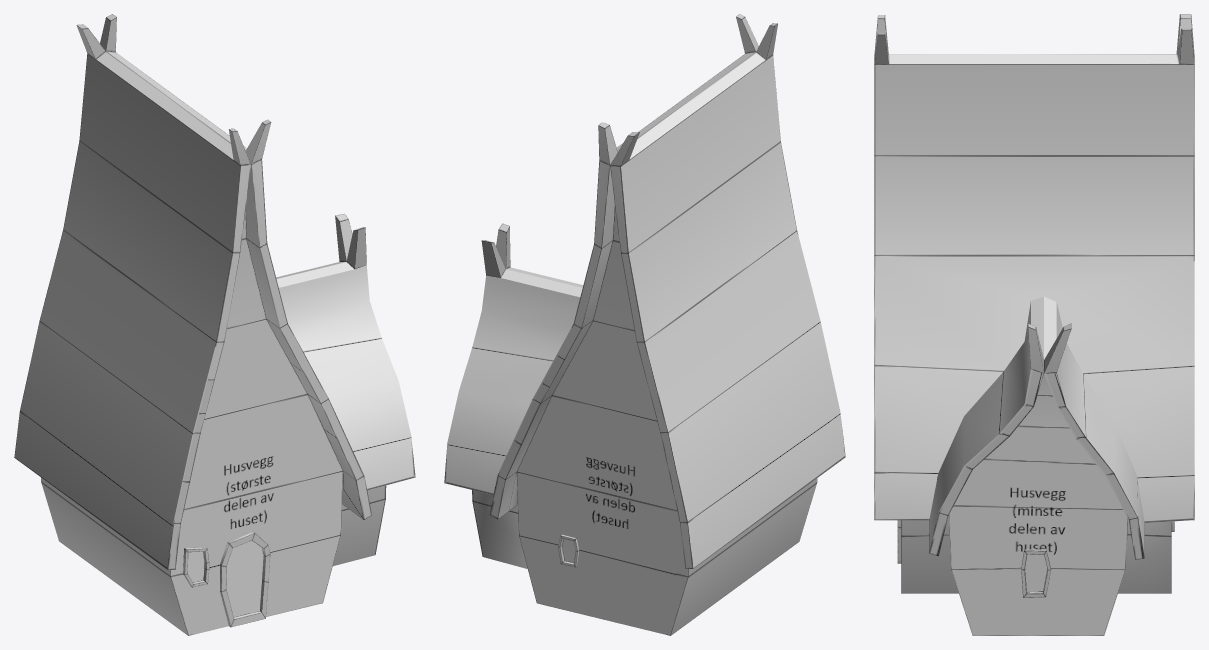
File: House02.fbx
3 renders of one model, left to right at view 1: azimuth 30°, elevation 25°; view 2: azimuth 150°, elevation 25°; view 3: azimuth 270°, elevation 25°, orthographic. The views are drawn at different scales.
Visible parts, largest first — view 1: House_02; view 2: House_02; view 3: House_02.
Part boxes in pixels (x1,y1,x2,y2): House_02: [14, 14, 415, 635]; House_02: [444, 14, 845, 635]; House_02: [874, 14, 1194, 635].
Size of the model in its own units: 774 by 1362 by 749.
Materials: 1 (1 with a texture image).
